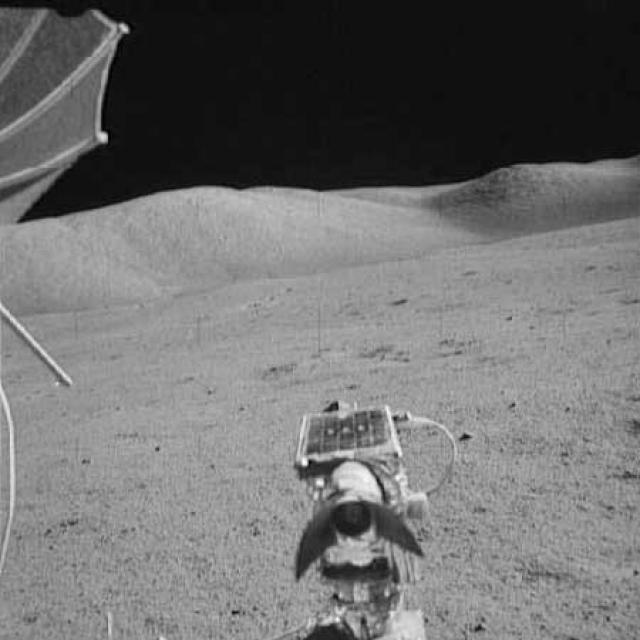artifact: (0, 0, 132, 389), (279, 394, 461, 639), (0, 391, 28, 585)
crater: (255, 335, 464, 377)
